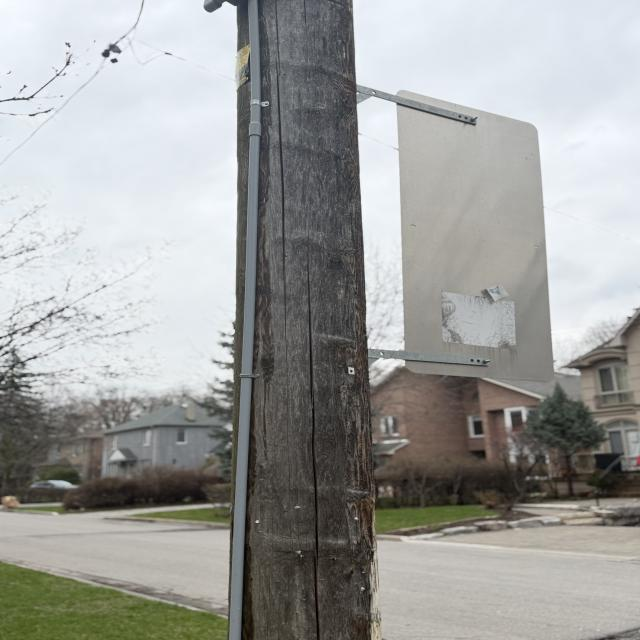Electrical Pole: (178, 0, 400, 638)
